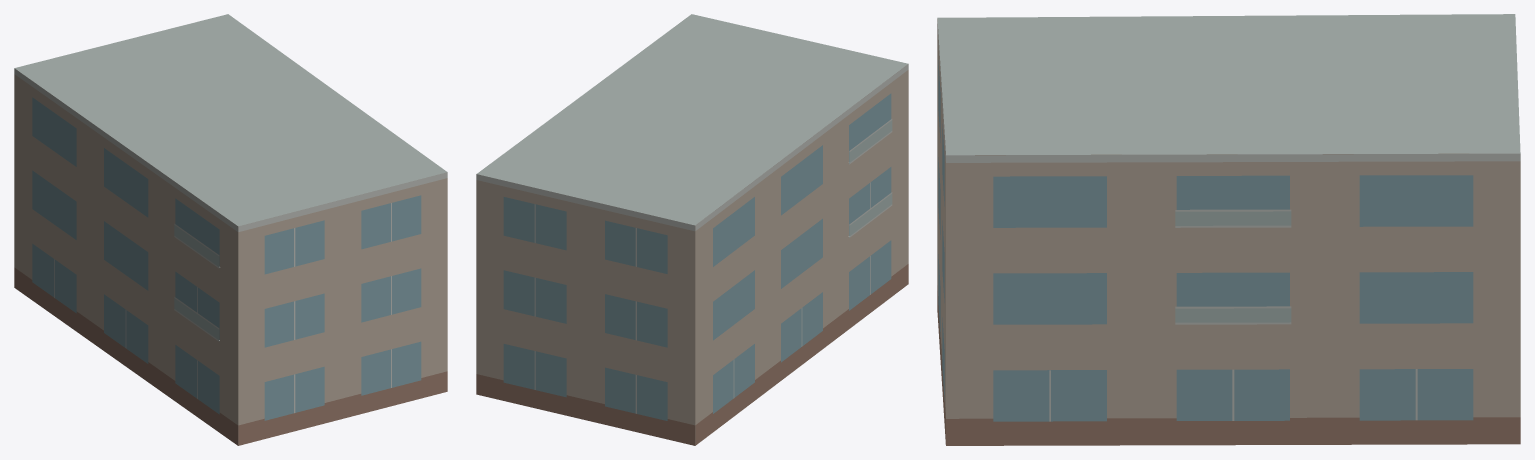
The model's file is survey-upis-32674821.glb.
3 renders of one model, left to right at view 1: azimuth 30°, elevation 25°; view 2: azimuth 150°, elevation 25°; view 3: azimuth 270°, elevation 25°, orthographic. The views are drawn at different scales.
Parts seen in each view (by area): view 1: survey-upis-32674821.tmp; view 2: survey-upis-32674821.tmp; view 3: survey-upis-32674821.tmp.
Part boxes in pixels (bbox=[...]): survey-upis-32674821.tmp: bbox=[14, 14, 447, 445]; survey-upis-32674821.tmp: bbox=[476, 14, 908, 445]; survey-upis-32674821.tmp: bbox=[937, 14, 1520, 445].
Size of the model in its own units: 9.54 by 9.15 by 16.65.
